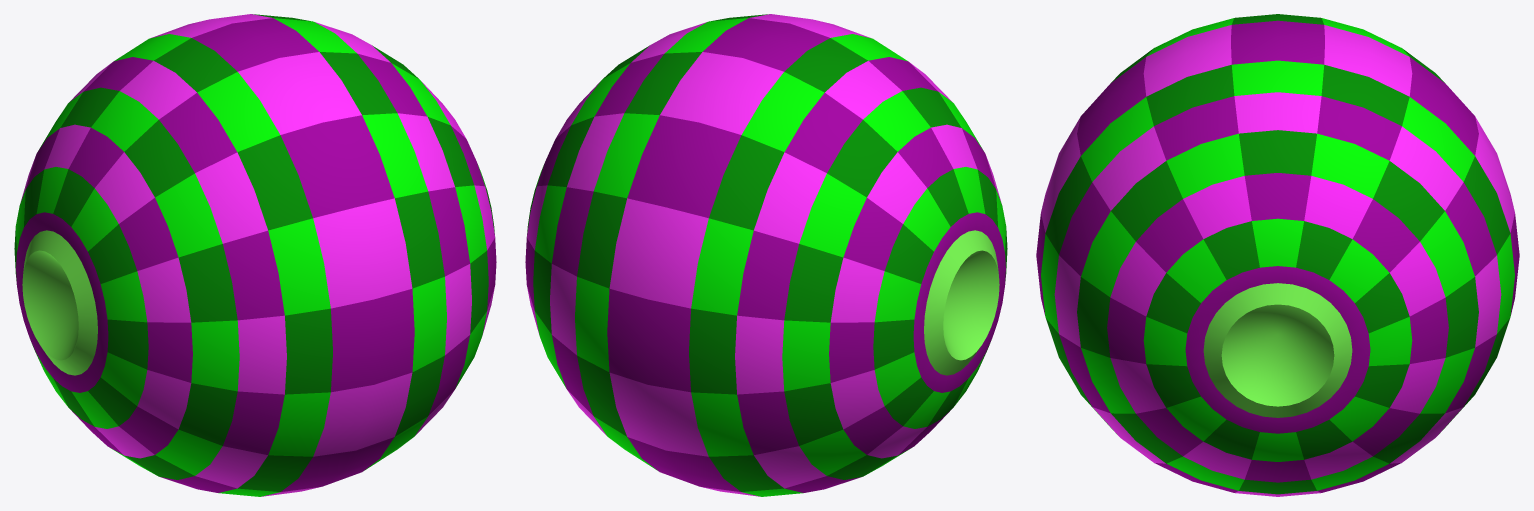
The model's file is ball_purplegreen.fbx.
The picture shows the model from 3 angles, left to right: view 1: azimuth 30°, elevation 25°; view 2: azimuth 150°, elevation 25°; view 3: azimuth 270°, elevation 25°; orthographic projection.
Visible parts, largest first — view 1: Coloured Ball 1; view 2: Coloured Ball 1; view 3: Coloured Ball 1.
Part boxes in pixels (x1,y1,x2,y2): Coloured Ball 1: (14,14,496,496); Coloured Ball 1: (525,14,1007,496); Coloured Ball 1: (1036,14,1519,496).
Bounding box in the file's own units: 43.26 × 44.16 × 44.16.
